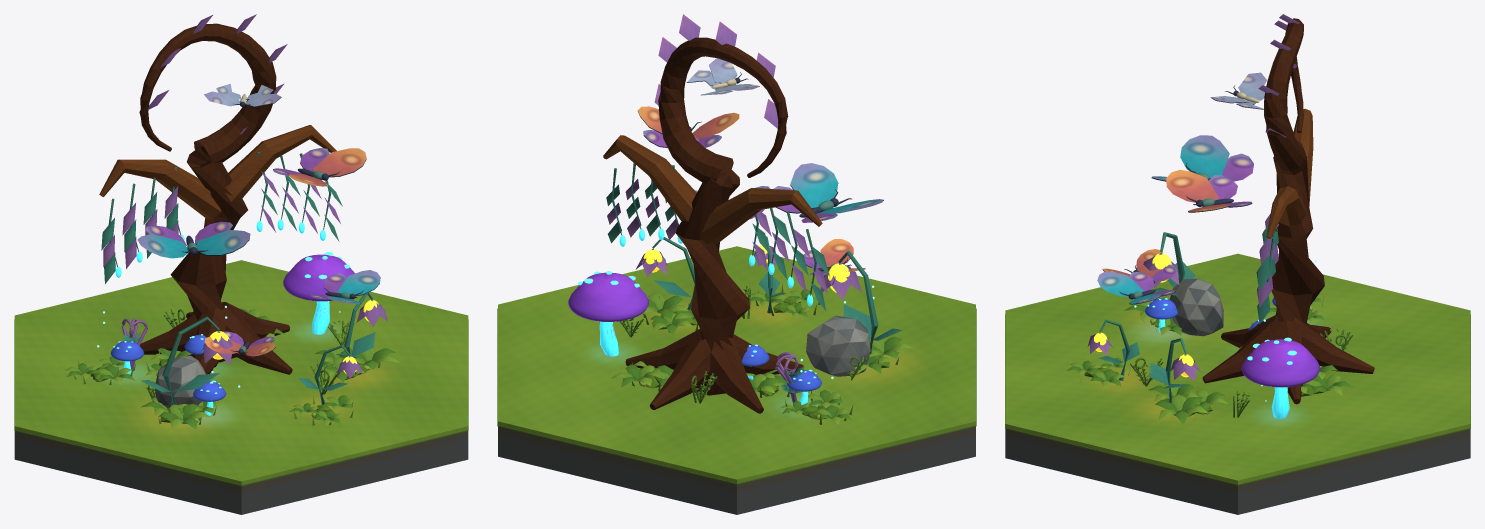
File: hex_butterfly_glade.glb
The picture shows the model from 3 angles, left to right: view 1: azimuth 30°, elevation 25°; view 2: azimuth 150°, elevation 25°; view 3: azimuth 270°, elevation 25°; orthographic projection. The views are drawn at different scales.
Visible parts, largest first — view 1: Standard hex meadow top.001, Dream willow coiling trunk.001, Standard hex stone foundation.001, Standard hex earth layer.001, Dream willow arching branch.002, Dream willow arching branch.003, Broad faceted mushroom cap.002, Angular mossy forest boulder.001, Splayed dreaming tree root.010, Painted butterfly wing.014, Splayed dreaming tree root.003, Painted butterfly wing.006 (+6 smaller); view 2: Standard hex meadow top.001, Dream willow coiling trunk.001, Standard hex stone foundation.001, Standard hex earth layer.001, Angular mossy forest boulder.001, Broad faceted mushroom cap.002, Dream willow arching branch.002, Dream willow arching branch.003, Splayed dreaming tree root.002, Splayed dreaming tree root.003, Painted butterfly wing.006, Splayed dreaming tree root.001 (+4 smaller); view 3: Standard hex meadow top.001, Standard hex stone foundation.001, Dream willow coiling trunk.001, Standard hex earth layer.001, Broad faceted mushroom cap.002, Angular mossy forest boulder.001, Splayed dreaming tree root.002, Painted butterfly wing.004, Splayed dreaming tree root.010, Dream willow arching branch.003, Painted butterfly wing.012, Dream willow arching branch.002 (+5 smaller).
Part boxes in pixels (x1,y1,x2,y2): Standard hex meadow top.001: (14, 260, 468, 484); Dream willow coiling trunk.001: (139, 23, 276, 362); Standard hex stone foundation.001: (14, 438, 468, 514); Standard hex earth layer.001: (14, 431, 468, 493); Dream willow arching branch.002: (99, 159, 221, 218); Dream willow arching branch.003: (225, 125, 336, 201); Broad faceted mushroom cap.002: (283, 254, 354, 301); Angular mossy forest boulder.001: (154, 355, 209, 411); Splayed dreaming tree root.010: (215, 306, 292, 374); Painted butterfly wing.014: (312, 148, 366, 177); Splayed dreaming tree root.003: (140, 308, 211, 354); Painted butterfly wing.006: (196, 229, 250, 255); Standard hex meadow top.001: (498, 246, 975, 483); Dream willow coiling trunk.001: (658, 37, 788, 395); Standard hex stone foundation.001: (498, 434, 975, 514); Standard hex earth layer.001: (498, 426, 975, 492); Angular mossy forest boulder.001: (806, 315, 870, 376); Broad faceted mushroom cap.002: (568, 272, 648, 321); Dream willow arching branch.002: (701, 188, 822, 244); Dream willow arching branch.003: (603, 135, 696, 221); Splayed dreaming tree root.002: (650, 332, 720, 409); Splayed dreaming tree root.003: (702, 337, 763, 413); Painted butterfly wing.006: (790, 163, 838, 208); Splayed dreaming tree root.001: (625, 329, 700, 369); Standard hex meadow top.001: (1005, 253, 1470, 484); Standard hex stone foundation.001: (1005, 436, 1470, 514); Dream willow coiling trunk.001: (1264, 18, 1324, 323); Standard hex earth layer.001: (1005, 429, 1470, 492); Broad faceted mushroom cap.002: (1241, 339, 1320, 387); Angular mossy forest boulder.001: (1169, 278, 1223, 336); Splayed dreaming tree root.002: (1289, 317, 1374, 373); Painted butterfly wing.004: (1180, 135, 1229, 177); Splayed dreaming tree root.010: (1202, 317, 1285, 383); Dream willow arching branch.003: (1266, 186, 1306, 238); Painted butterfly wing.012: (1166, 170, 1219, 202); Dream willow arching branch.002: (1293, 108, 1313, 205).
Bounding box in the file's own units: 5.11 × 4.03 × 4.42.
45 materials, 39 textured.
